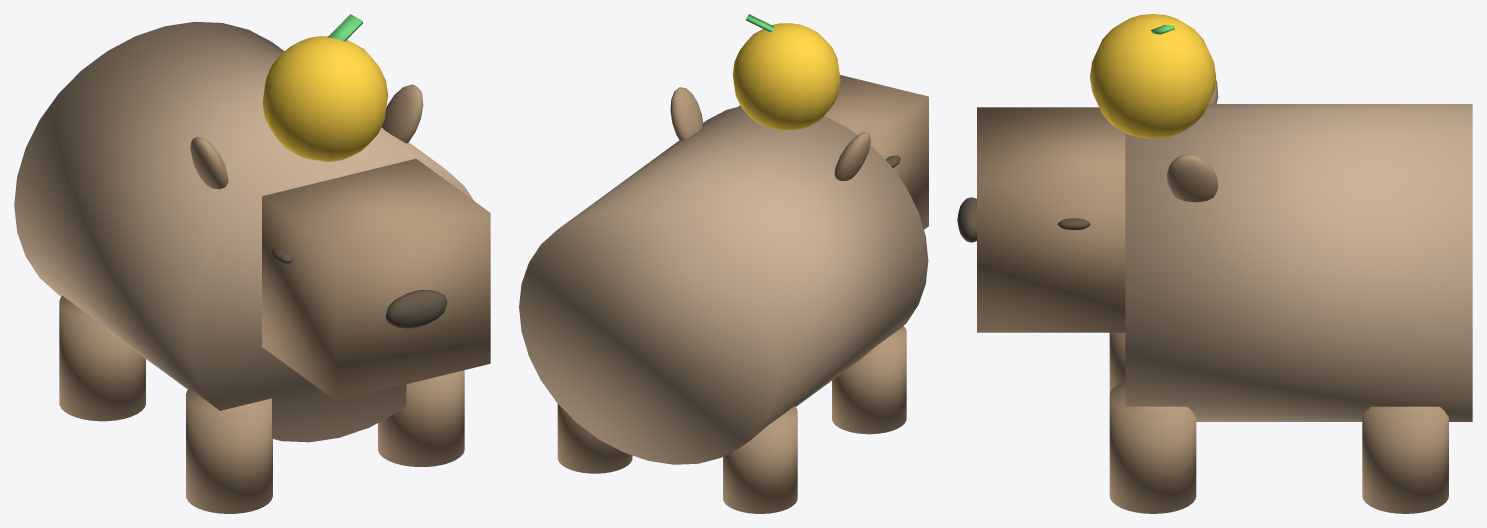
The model's file is capybara.glb.
3 views of the same model, side by side, from view 1: azimuth 30°, elevation 25°; view 2: azimuth 150°, elevation 25°; view 3: azimuth 270°, elevation 25° (orthographic). The views are drawn at different scales.
Parts seen in each view (by area): view 1: Capybara; view 2: Capybara; view 3: Capybara.
Boxes of the visible parts, bbox=[...] form: Capybara: bbox=[14, 14, 490, 513]; Capybara: bbox=[519, 14, 928, 513]; Capybara: bbox=[957, 14, 1472, 513].
Bounding box in the file's own units: 1.1 × 1.54 × 1.63.
